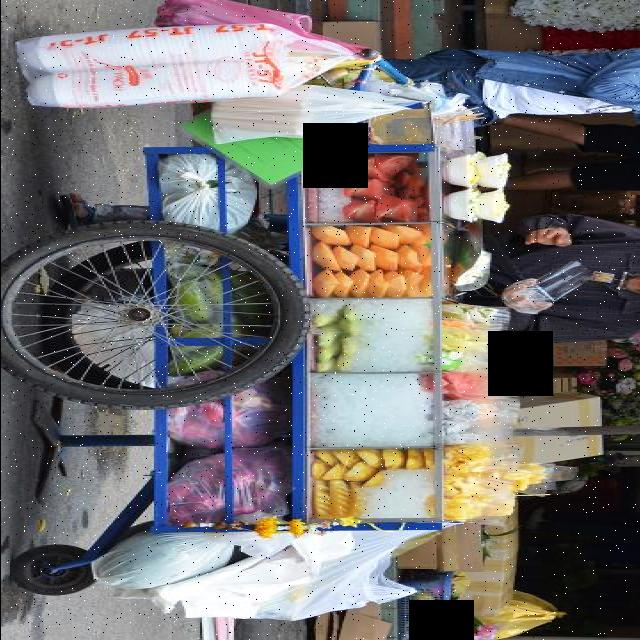food-booth: (0, 3, 603, 622)
